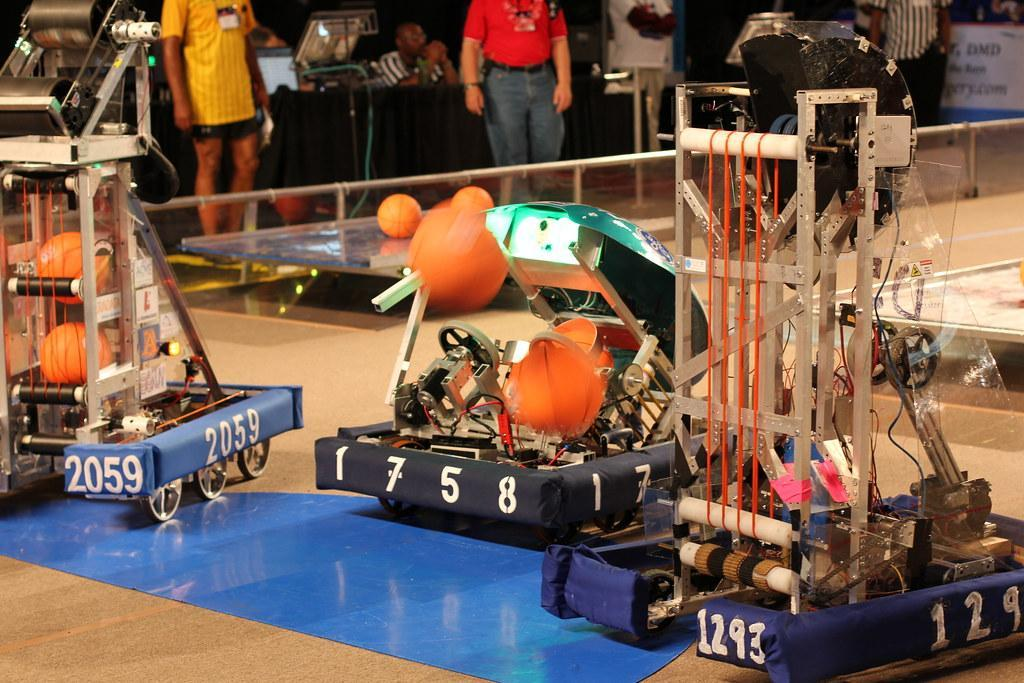robot: (531, 25, 1024, 683), (0, 0, 310, 514), (312, 187, 758, 516)
